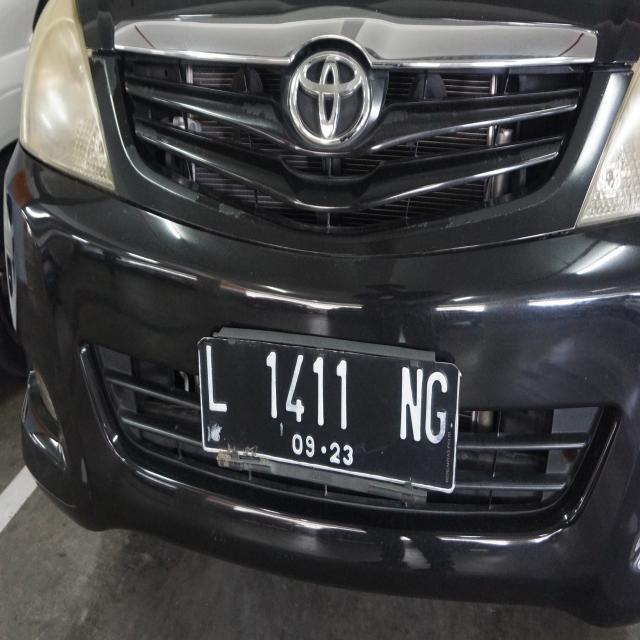1: (330, 353, 358, 433), (306, 348, 332, 433), (258, 347, 282, 424)
4: (278, 342, 308, 428)
G: (420, 361, 452, 456)
L: (198, 341, 236, 419)
N: (392, 354, 427, 457)
